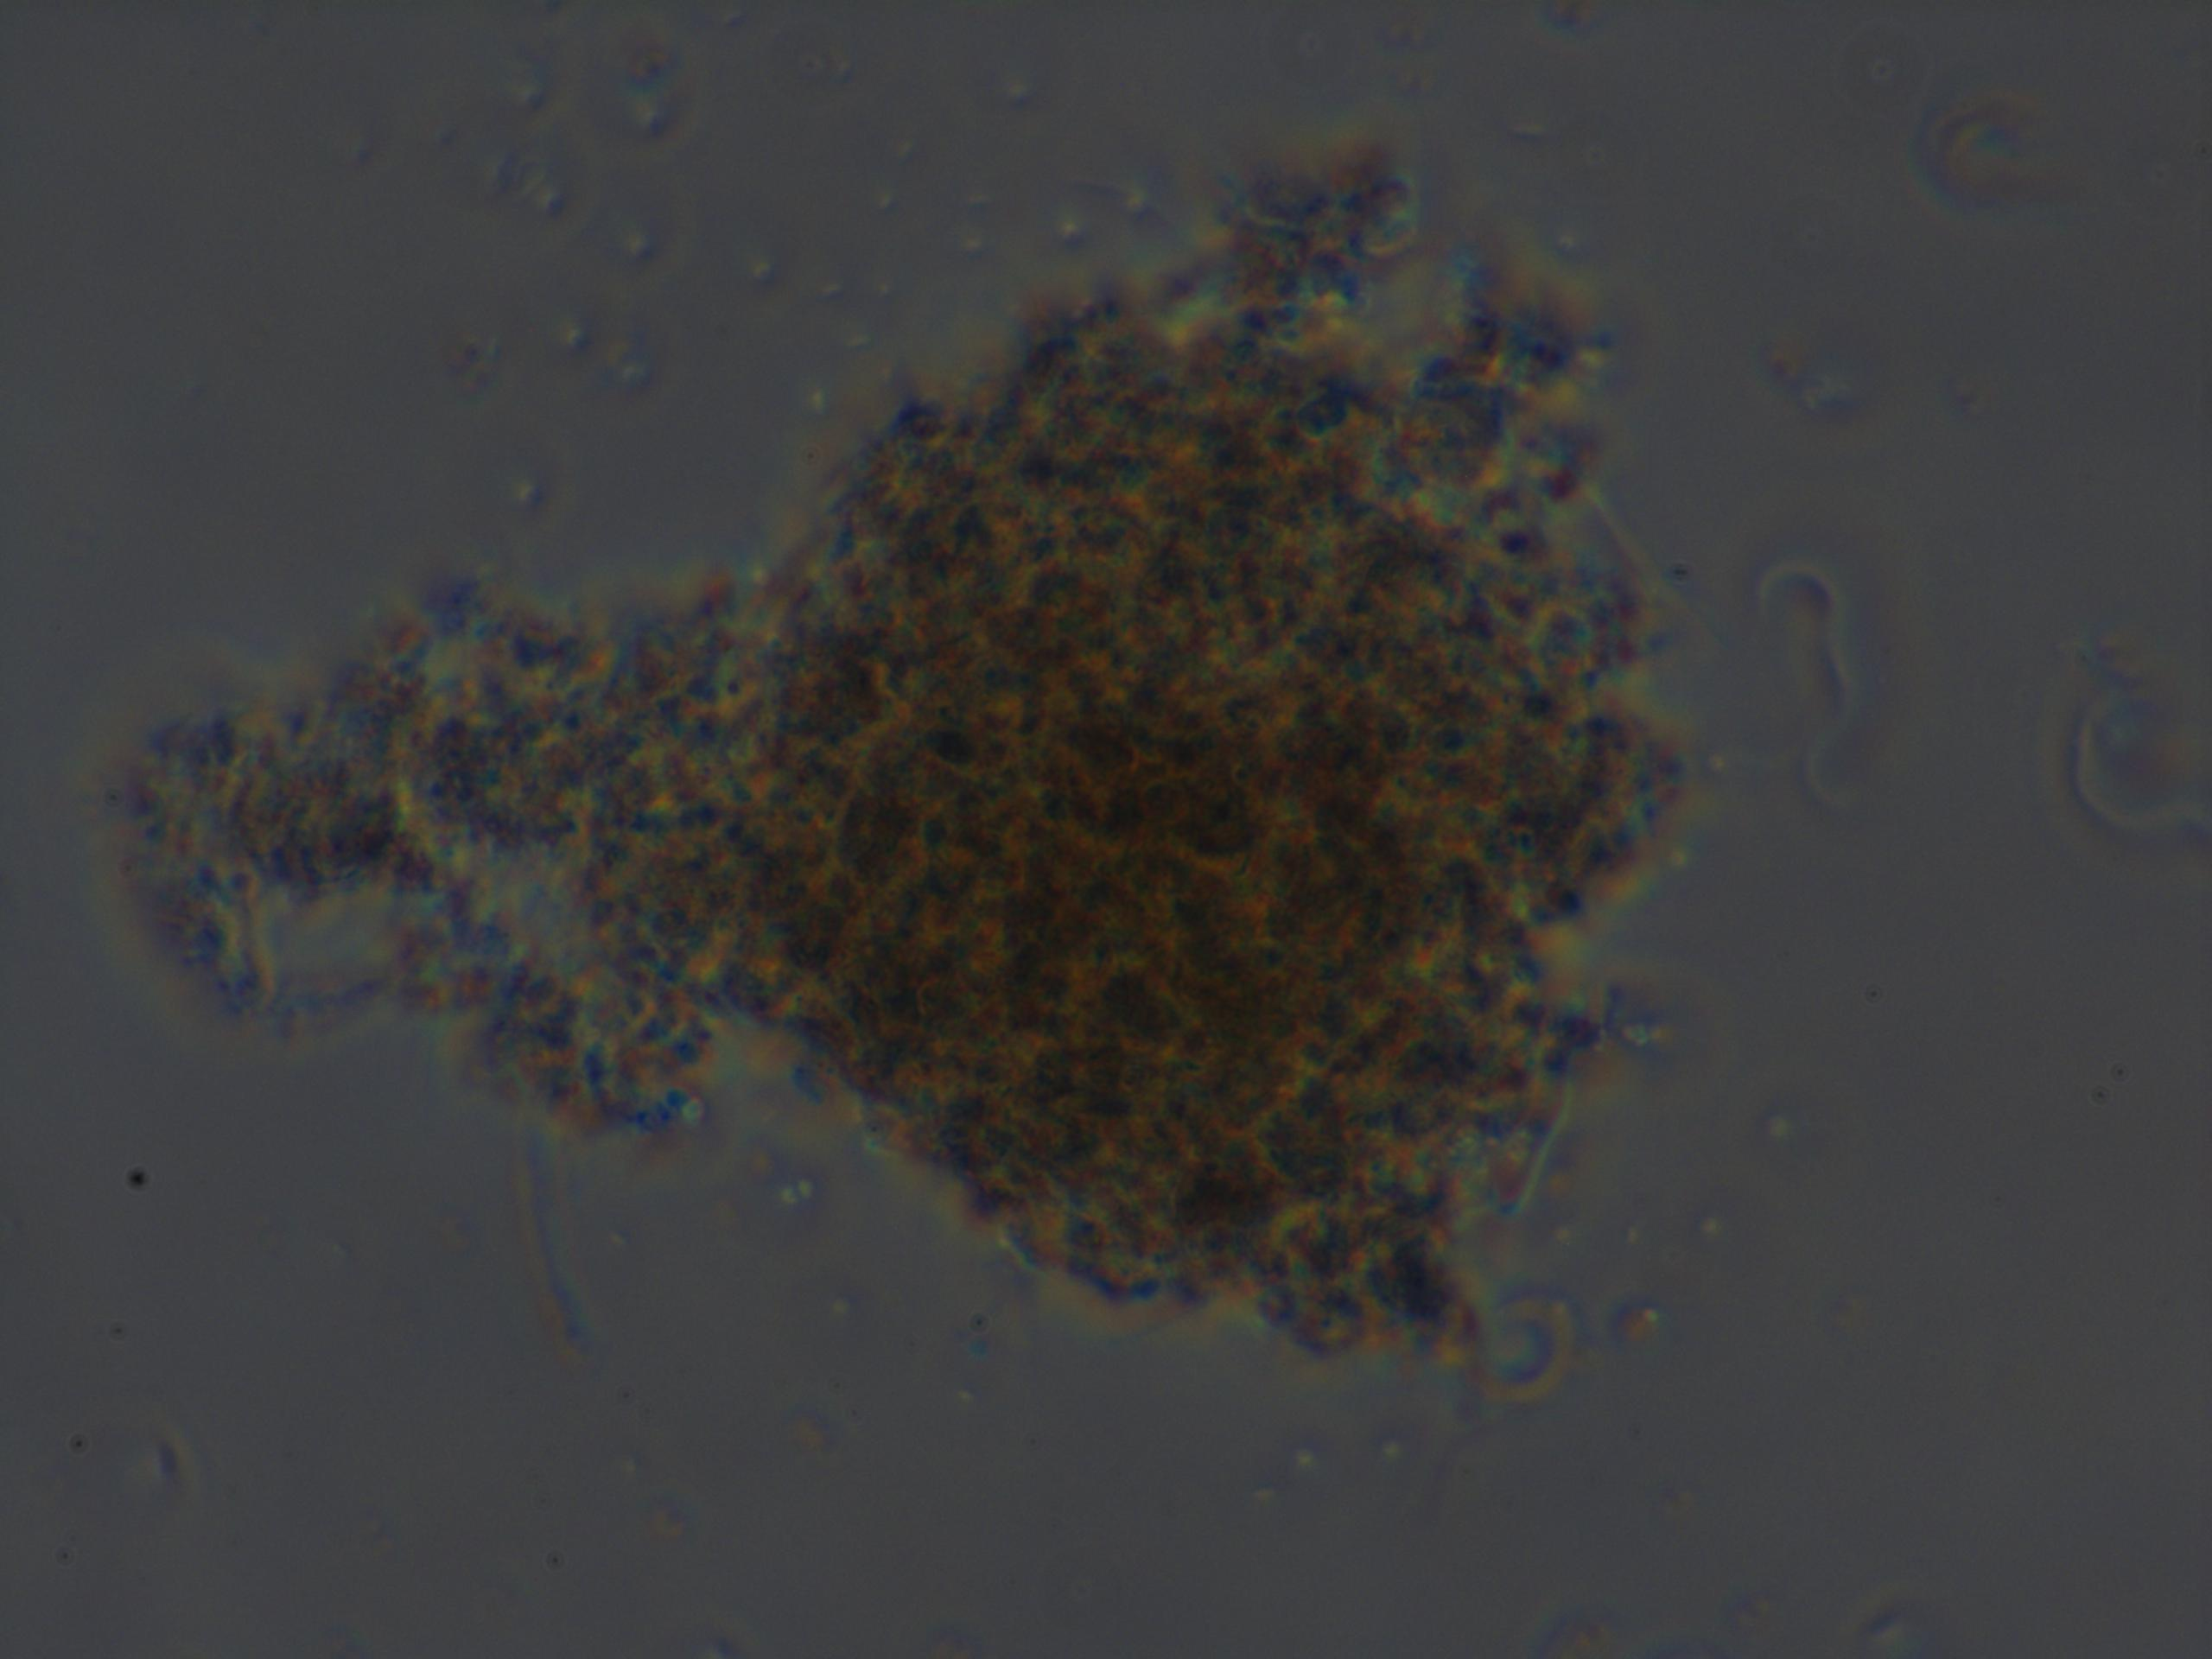spherical_floc: (664, 176, 1688, 1382)
